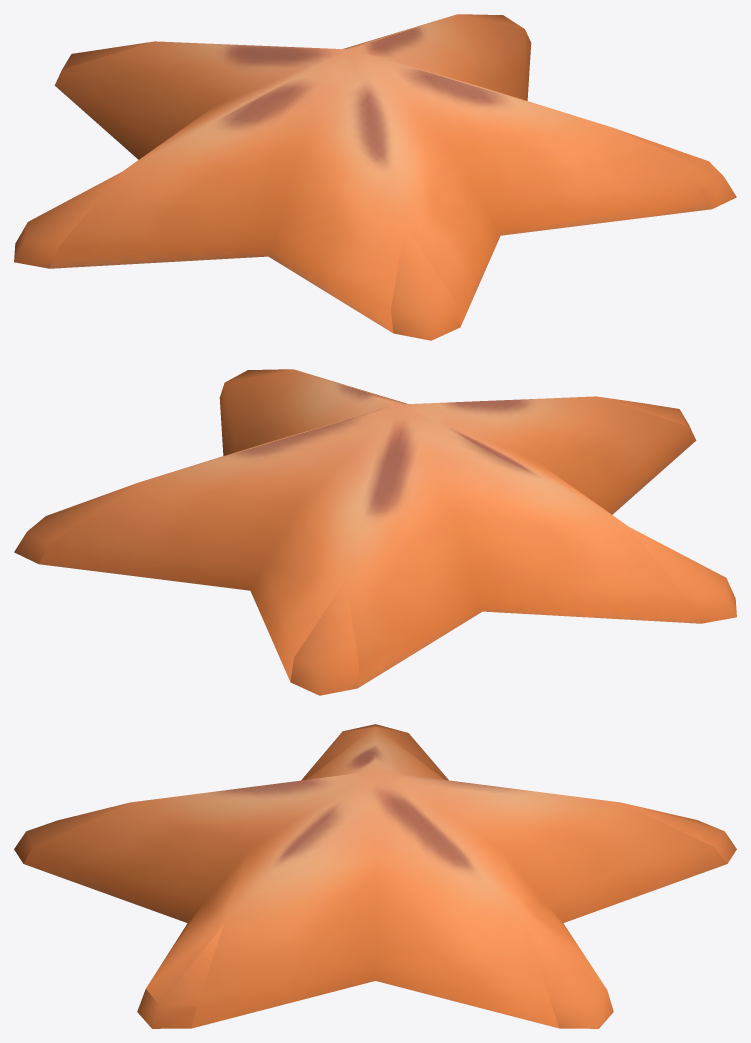
Rendered from Beach_star_01.fbx.
3 renders of one model, top to bottom at view 1: azimuth 30°, elevation 25°; view 2: azimuth 150°, elevation 25°; view 3: azimuth 270°, elevation 25°, orthographic. The views are drawn at different scales.
Parts seen in each view (by area): view 1: Beach_star_01; view 2: Beach_star_01; view 3: Beach_star_01.
Part boxes in pixels (<box>): Beach_star_01: <box>14,14,736,340</box>; Beach_star_01: <box>14,369,736,695</box>; Beach_star_01: <box>14,724,736,1028</box>.
Size of the model in its own units: 51.28 by 10.48 by 53.7.
